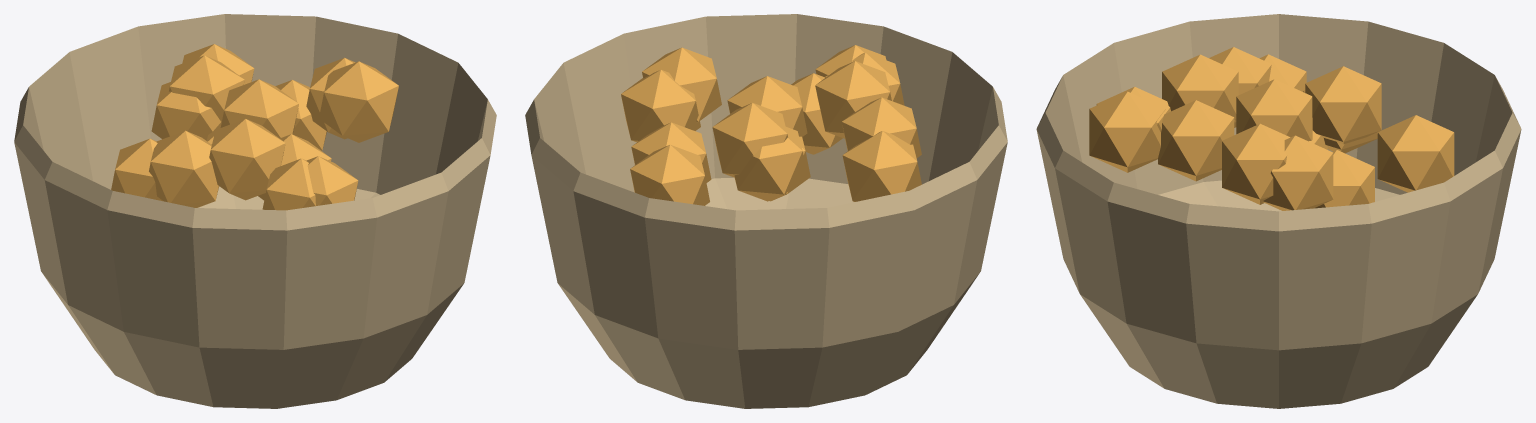
Rendered from basket.glb.
3 views of the same model, side by side, from view 1: azimuth 30°, elevation 25°; view 2: azimuth 150°, elevation 25°; view 3: azimuth 270°, elevation 25° (orthographic).
Visible parts, largest first — view 1: basket, basket_fruit; view 2: basket, basket_fruit; view 3: basket, basket_fruit.
Boxes of the visible parts, left/top/right/bottom form: basket: left=14, top=14, right=496, bottom=408; basket_fruit: left=111, top=44, right=398, bottom=210; basket: left=525, top=14, right=1007, bottom=408; basket_fruit: left=621, top=45, right=921, bottom=205; basket: left=1036, top=14, right=1521, bottom=408; basket_fruit: left=1089, top=47, right=1454, bottom=210.
Size of the model in its own units: 0.54 by 0.3261 by 0.54.
